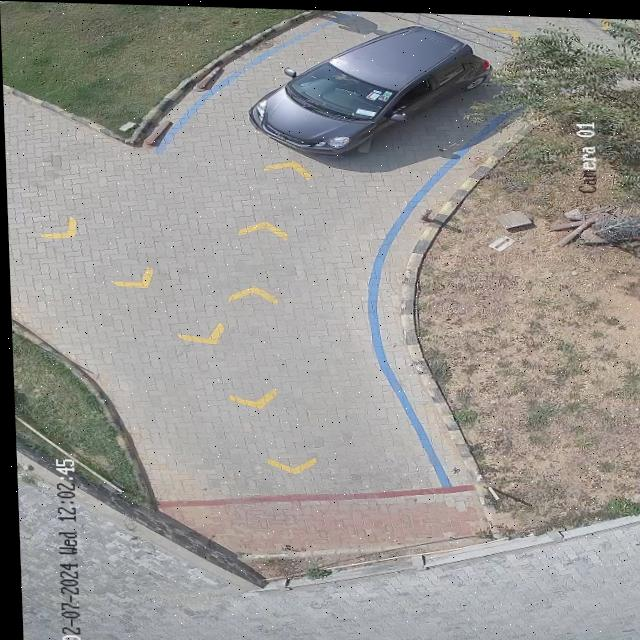car: (249, 22, 490, 153)
